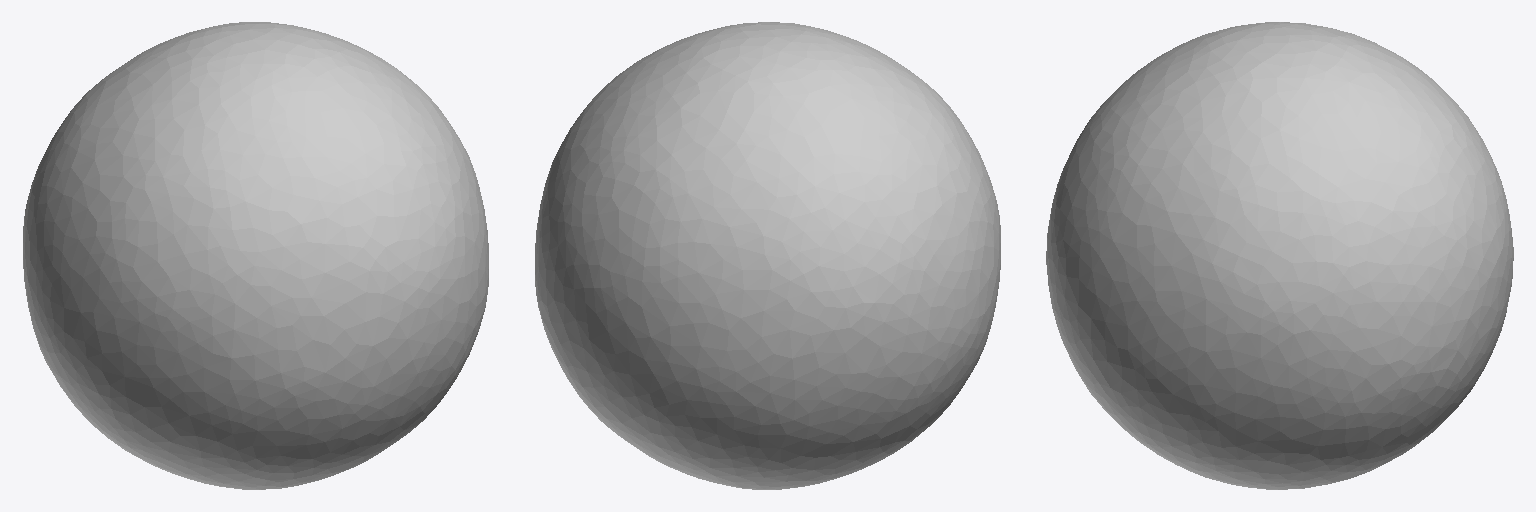
Rendered from sky.obj.
The picture shows the model from 3 angles: view 1: azimuth 30°, elevation 25°; view 2: azimuth 150°, elevation 25°; view 3: azimuth 270°, elevation 25°; orthographic projection.
Parts seen in each view (by area): view 1: Icosphere; view 2: Icosphere; view 3: Icosphere.
Part boxes in pixels (bbox=[...]): Icosphere: bbox=[23, 22, 488, 489]; Icosphere: bbox=[535, 22, 1000, 489]; Icosphere: bbox=[1046, 22, 1513, 489].
Size of the model in its own units: 370 by 372 by 371.